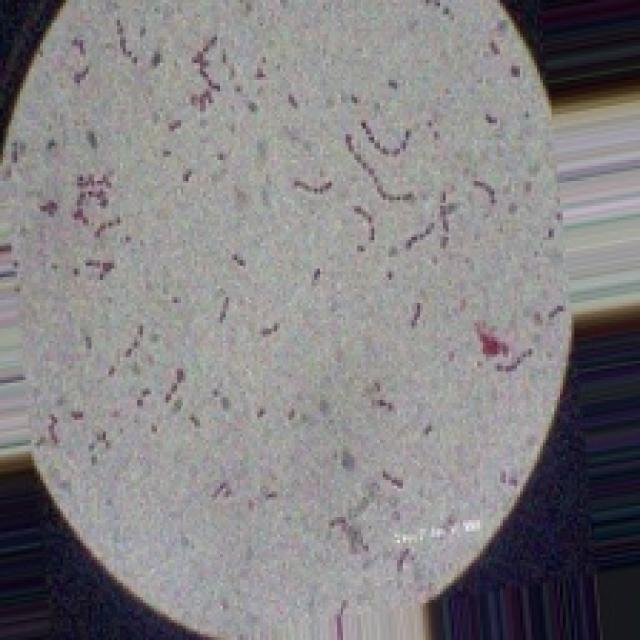Rod_bacteria: (0, 0, 574, 637)
